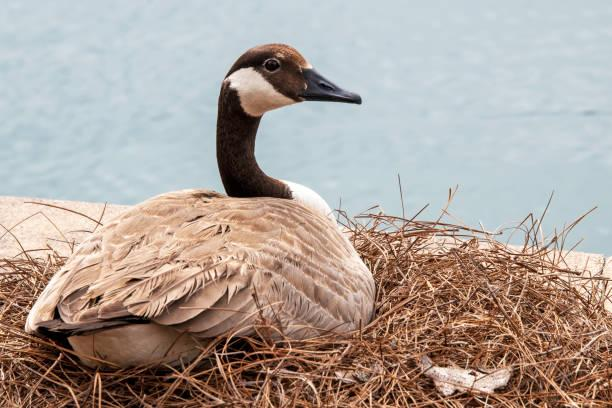Canadian-Goose: (36, 43, 383, 354)
